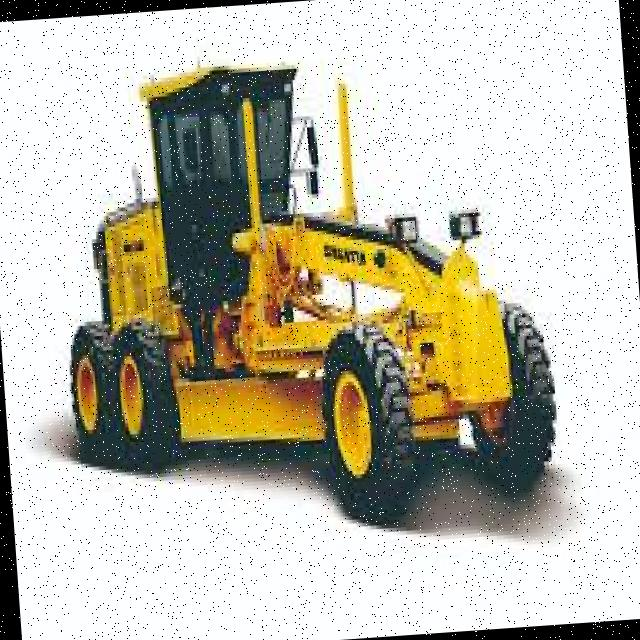Grader: (28, 25, 567, 572)
